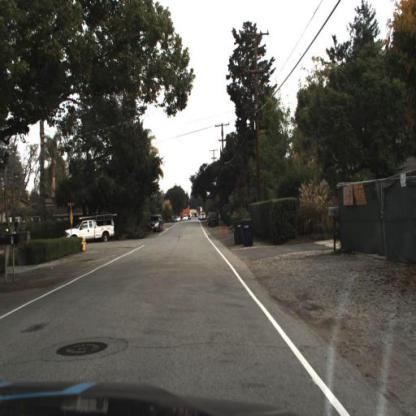car: (65, 217, 116, 245), (147, 214, 163, 235)
